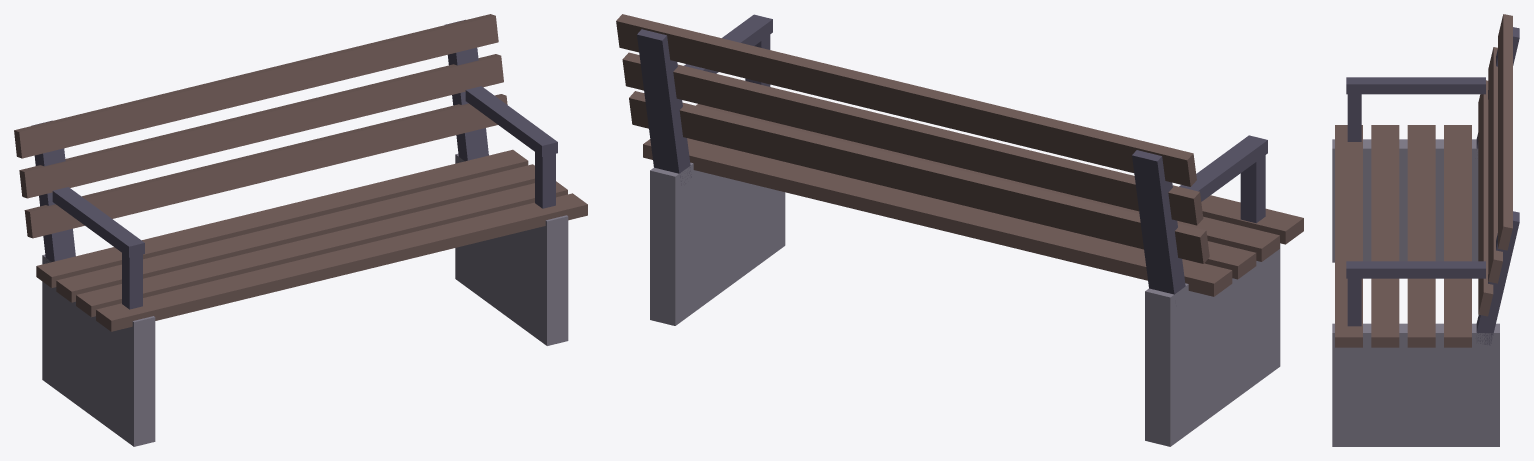
The model's file is Bench.glb.
The picture shows the model from 3 angles, left to right: view 1: azimuth 30°, elevation 25°; view 2: azimuth 150°, elevation 25°; view 3: azimuth 270°, elevation 25°; orthographic projection. The views are drawn at different scales.
Parts seen in each view (by area): view 1: back-slat (×3), seat-slat (×4), leg (×2), armrest (×2), leg-back (×2), armrest-post (×2); view 2: back-slat (×3), leg (×2), seat-slat (×4), leg-back (×2), armrest (×2), armrest-post; view 3: seat-slat (×4), leg (×2), back-slat (×3), armrest (×2), leg-back (×2), armrest-post (×2).
Boxes of the visible parts, x1,y1,x2,y2 form: back-slat (×3): [14, 14, 507, 238]; seat-slat (×4): [36, 149, 587, 331]; leg (×2): [42, 154, 568, 446]; armrest (×2): [52, 86, 557, 257]; leg-back (×2): [31, 19, 488, 262]; armrest-post (×2): [122, 152, 555, 309]; back-slat (×3): [616, 14, 1209, 263]; leg (×2): [650, 162, 1280, 446]; seat-slat (×4): [643, 104, 1303, 296]; leg-back (×2): [637, 29, 1185, 294]; armrest (×2): [684, 14, 1267, 201]; armrest-post: [1240, 155, 1265, 223]; seat-slat (×4): [1335, 125, 1471, 347]; leg (×2): [1332, 139, 1499, 446]; back-slat (×3): [1478, 14, 1512, 316]; armrest (×2): [1346, 77, 1485, 278]; leg-back (×2): [1476, 27, 1519, 345]; armrest-post (×2): [1347, 94, 1361, 326].
Bounding box in the file's own units: 1.8 × 0.9077 × 0.6713.
